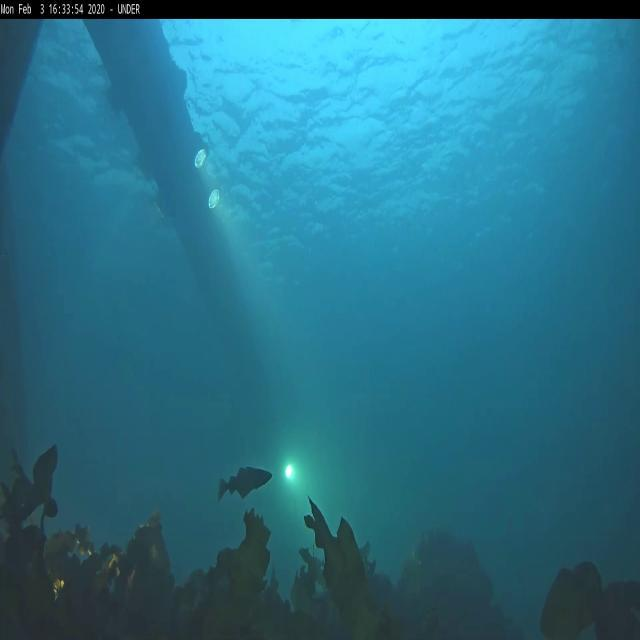fish: (218, 469, 272, 499)
